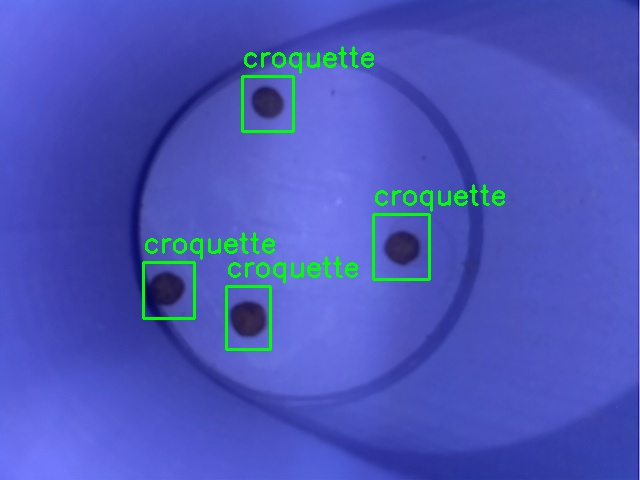croquette: (373, 214, 429, 279), (143, 262, 194, 318), (242, 76, 293, 131), (226, 286, 270, 349)
